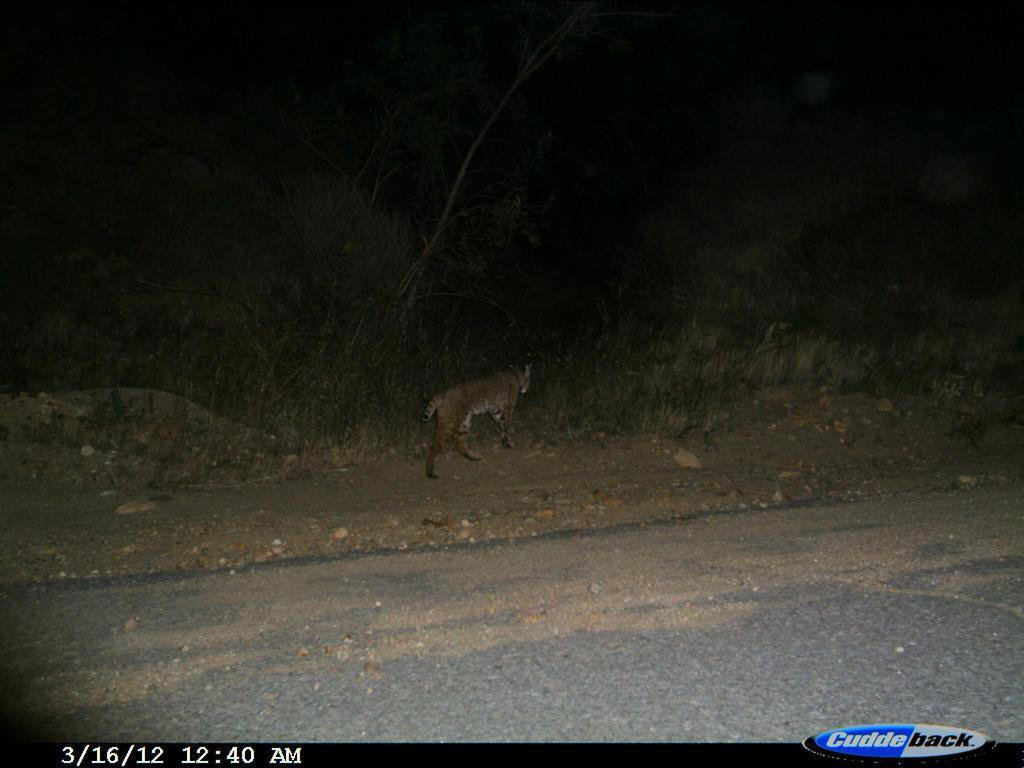bobcat: (417, 355, 539, 484)
